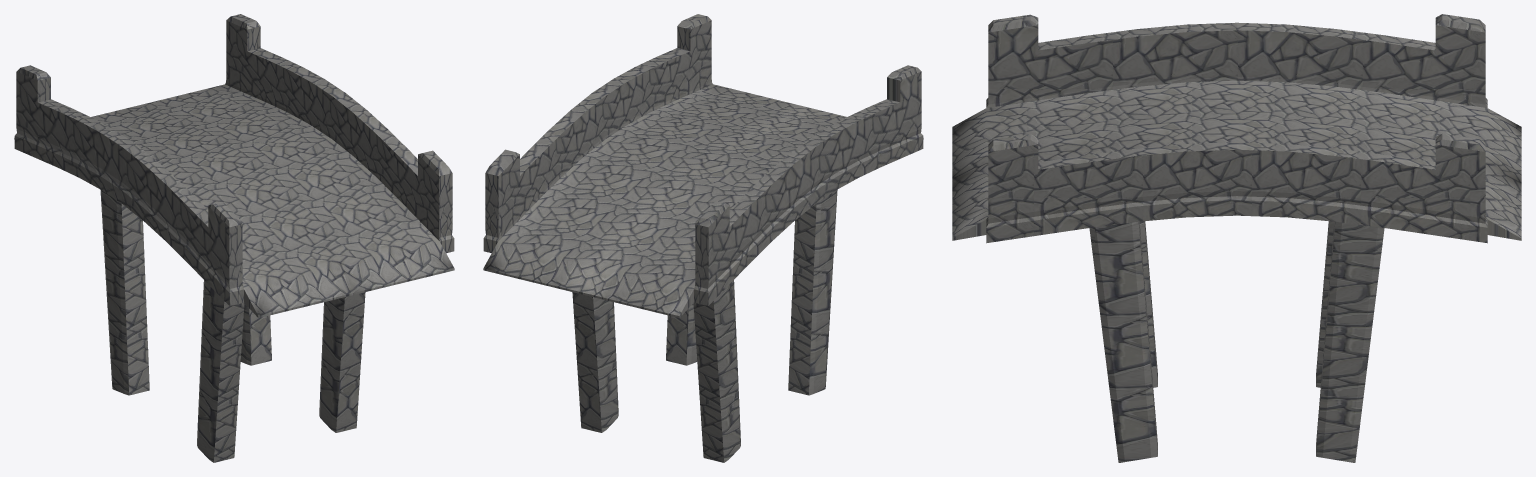
The model's file is _ridge.fbx.
3 views of the same model, side by side, from view 1: azimuth 30°, elevation 25°; view 2: azimuth 150°, elevation 25°; view 3: azimuth 270°, elevation 25° (orthographic). The views are drawn at different scales.
Parts seen in each view (by area): view 1: Cube; view 2: Cube; view 3: Cube.
Boxes of the visible parts, left/top/right/bottom form: Cube: left=14, top=14, right=454, bottom=462; Cube: left=483, top=14, right=923, bottom=462; Cube: left=952, top=14, right=1521, bottom=462.
Size of the model in its own units: 897 by 1130 by 1687.
